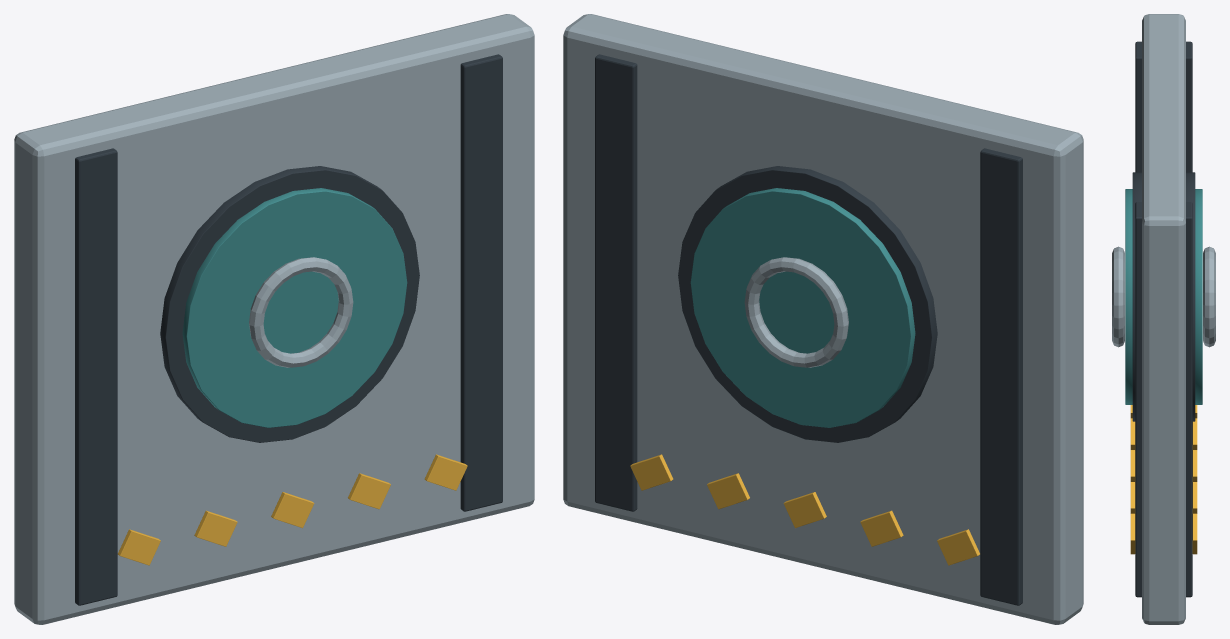
The model's file is airlock.glb.
3 views of the same model, side by side, from view 1: azimuth 30°, elevation 25°; view 2: azimuth 150°, elevation 25°; view 3: azimuth 270°, elevation 25° (orthographic). The views are drawn at different scales.
Visible parts, largest first — view 1: Pressure bulkhead, Pressure hatch, Lock rail, Lock rail.001, Hatch surround, Lock wheel, Caution stripe.004, Caution stripe.001, Caution stripe.002, Caution stripe, Caution stripe.003; view 2: Pressure bulkhead, Pressure hatch.001, Lock rail.002, Lock rail.003, Hatch surround.001, Lock wheel.001, Caution stripe.009, Caution stripe.006, Caution stripe.007, Caution stripe.005, Caution stripe.008; view 3: Pressure bulkhead, Lock rail.001, Lock rail.003, Pressure hatch, Pressure hatch.001, Lock wheel, Lock wheel.001, Hatch surround, Hatch surround.001, Lock rail, Lock rail.002, Caution stripe.004 (+7 smaller).
Boxes of the visible parts, bbox=[...] form: Pressure bulkhead: bbox=[14, 14, 534, 624]; Pressure hatch: bbox=[182, 188, 407, 427]; Lock rail: bbox=[75, 148, 117, 605]; Lock rail.001: bbox=[460, 54, 502, 511]; Hatch surround: bbox=[160, 166, 419, 442]; Lock wheel: bbox=[249, 257, 353, 367]; Caution stripe.004: bbox=[424, 454, 467, 490]; Caution stripe.001: bbox=[194, 510, 237, 546]; Caution stripe.002: bbox=[271, 492, 314, 528]; Caution stripe: bbox=[118, 529, 160, 565]; Caution stripe.003: bbox=[348, 473, 390, 509]; Pressure bulkhead: bbox=[563, 14, 1083, 624]; Pressure hatch.001: bbox=[690, 188, 915, 427]; Lock rail.002: bbox=[980, 148, 1022, 605]; Lock rail.003: bbox=[595, 54, 637, 511]; Hatch surround.001: bbox=[678, 166, 937, 442]; Lock wheel.001: bbox=[744, 257, 848, 367]; Caution stripe.009: bbox=[630, 454, 673, 490]; Caution stripe.006: bbox=[860, 510, 903, 546]; Caution stripe.007: bbox=[783, 492, 826, 528]; Caution stripe.005: bbox=[937, 529, 979, 565]; Caution stripe.008: bbox=[707, 473, 749, 509]; Pressure bulkhead: bbox=[1142, 14, 1185, 624]; Lock rail.001: bbox=[1135, 202, 1141, 597]; Lock rail.003: bbox=[1186, 202, 1192, 597]; Pressure hatch: bbox=[1125, 189, 1132, 404]; Pressure hatch.001: bbox=[1195, 189, 1202, 404]; Lock wheel: bbox=[1112, 246, 1124, 347]; Lock wheel.001: bbox=[1203, 246, 1215, 347]; Hatch surround: bbox=[1132, 172, 1141, 421]; Hatch surround.001: bbox=[1186, 172, 1195, 421]; Lock rail: bbox=[1135, 41, 1141, 172]; Lock rail.002: bbox=[1186, 41, 1192, 172]; Caution stripe.004: bbox=[1130, 513, 1135, 554].
Bounding box in the file's own units: 2.68 × 2.45 × 0.564.
